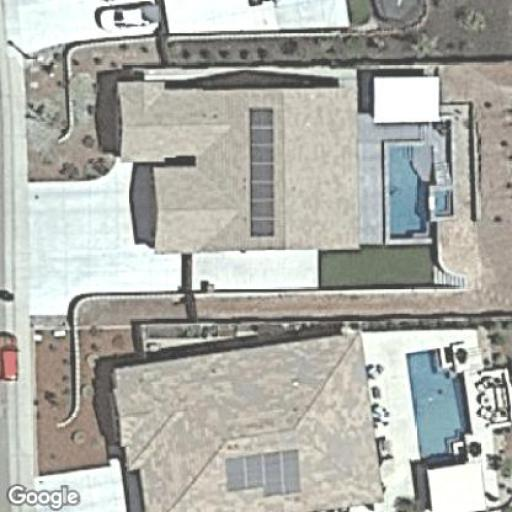solar-panel: (222, 444, 305, 502), (246, 106, 278, 240)
